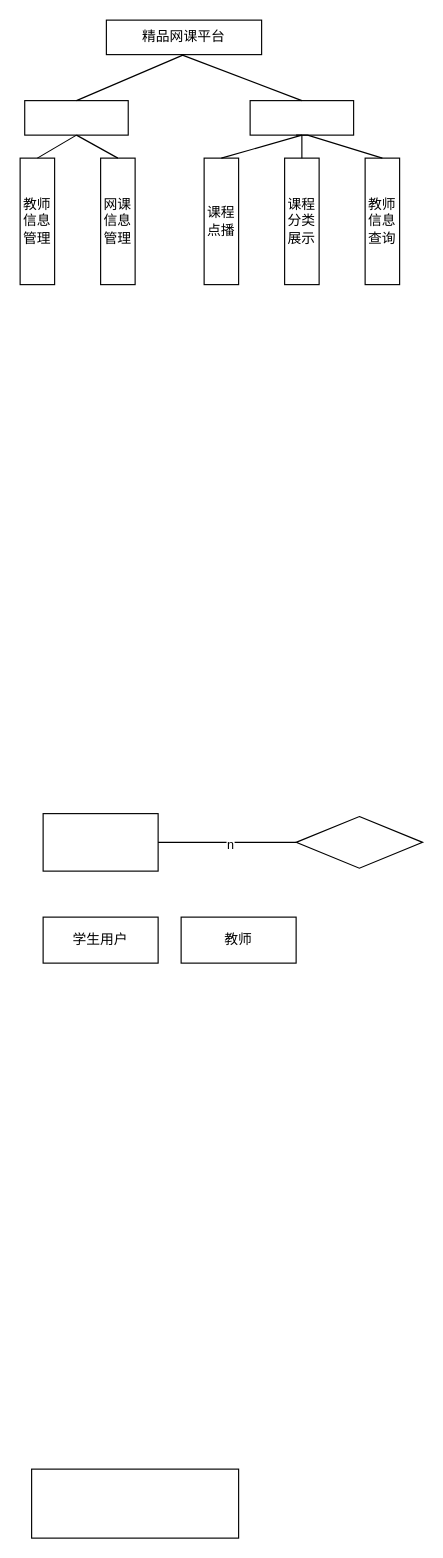
Image size: 443x1558. Some labels were removed from this diagram. The shapes that lost their labels are listed below. From the top down, each one's box as (x1, y1, x2, y2) in pixels, then its label:
(24, 99, 128, 135): 管理员模块
(249, 99, 354, 135): 用户模块
(42, 812, 158, 871): 课程
(30, 1468, 239, 1538): 哈尔滨理工大学精品课
